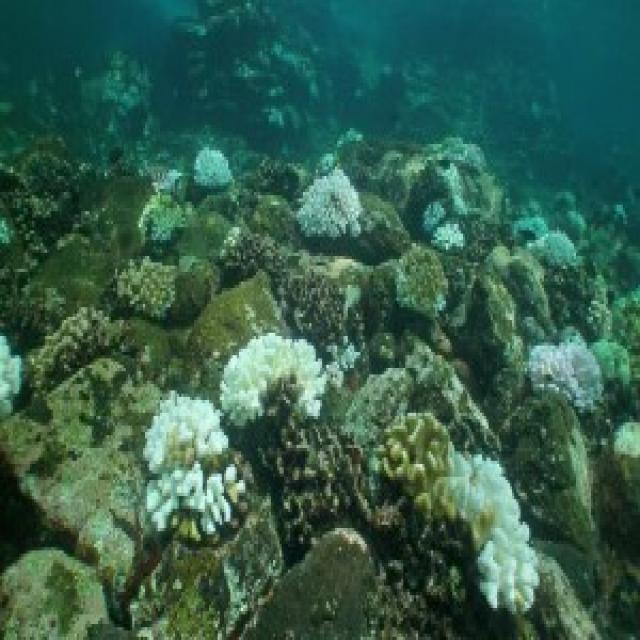Bleached: (146, 395, 246, 542), (451, 455, 539, 609), (221, 334, 327, 423), (528, 340, 603, 411), (298, 167, 359, 238), (532, 226, 580, 274), (193, 151, 234, 190)
Healthy: (229, 379, 398, 564), (221, 228, 359, 353), (27, 308, 125, 398), (379, 414, 455, 513), (394, 244, 447, 318), (116, 257, 174, 318)
